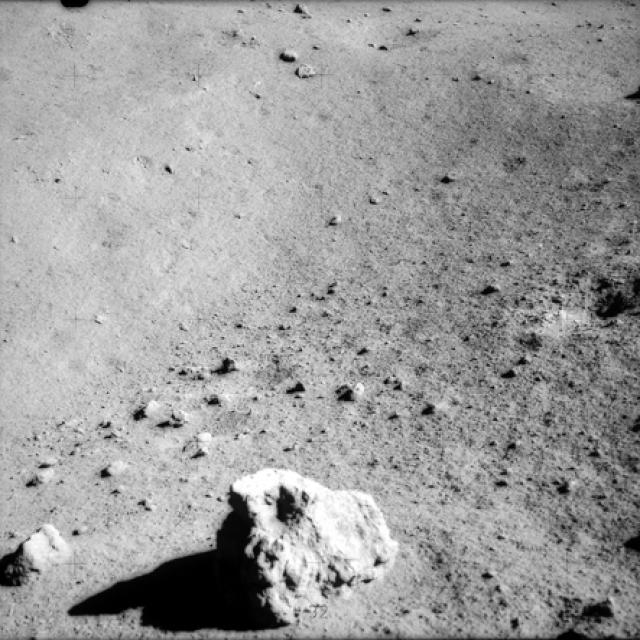rock: (219, 463, 400, 624), (6, 518, 78, 576), (328, 367, 373, 405), (582, 589, 628, 624), (130, 398, 170, 423)
